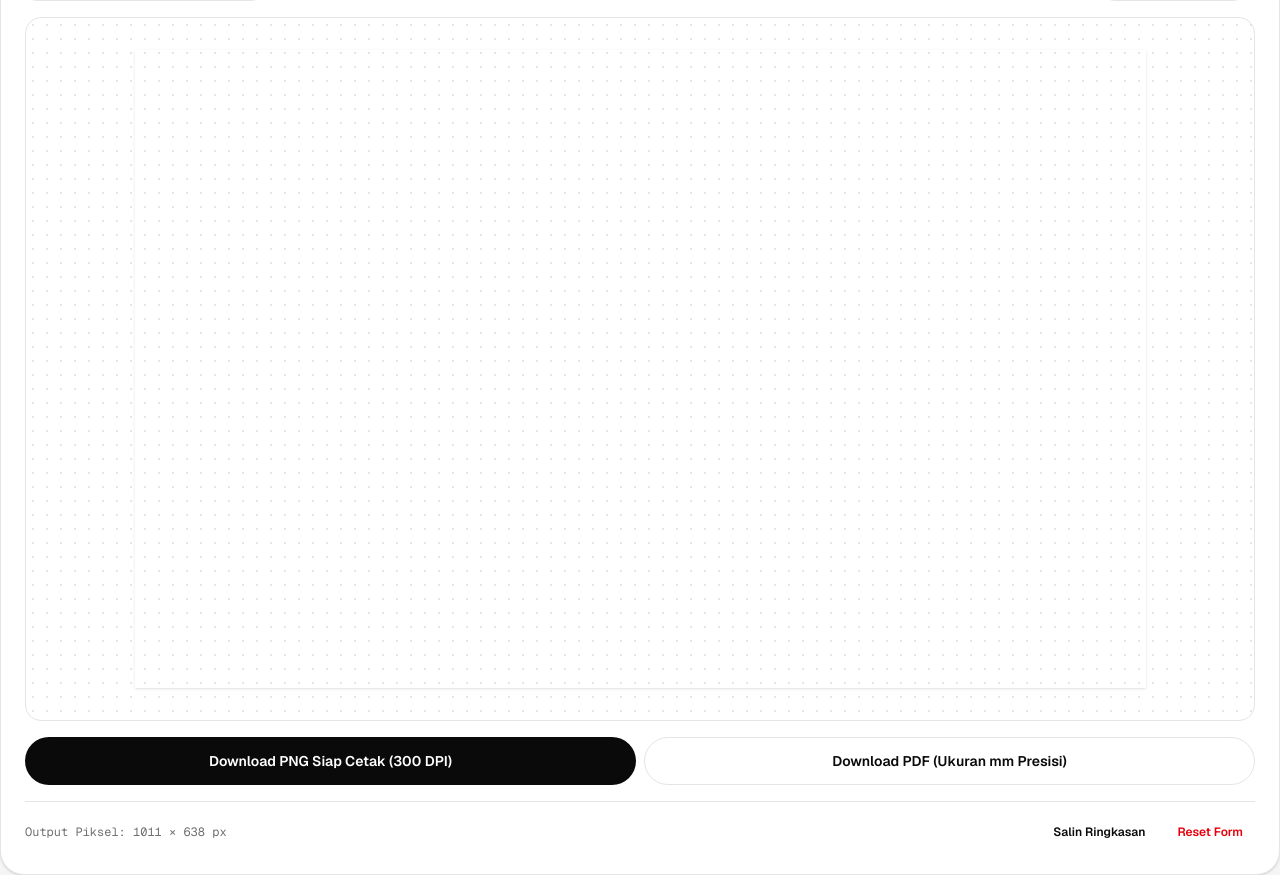
LivePreview › Salin Ringkasan memakai clipboard dan memberi umpan balik
The image size is (1280, 875).
(page scrolled)
Click the button "Salin Ringkasan" at (1099, 832), box [1041,814,1158,850]
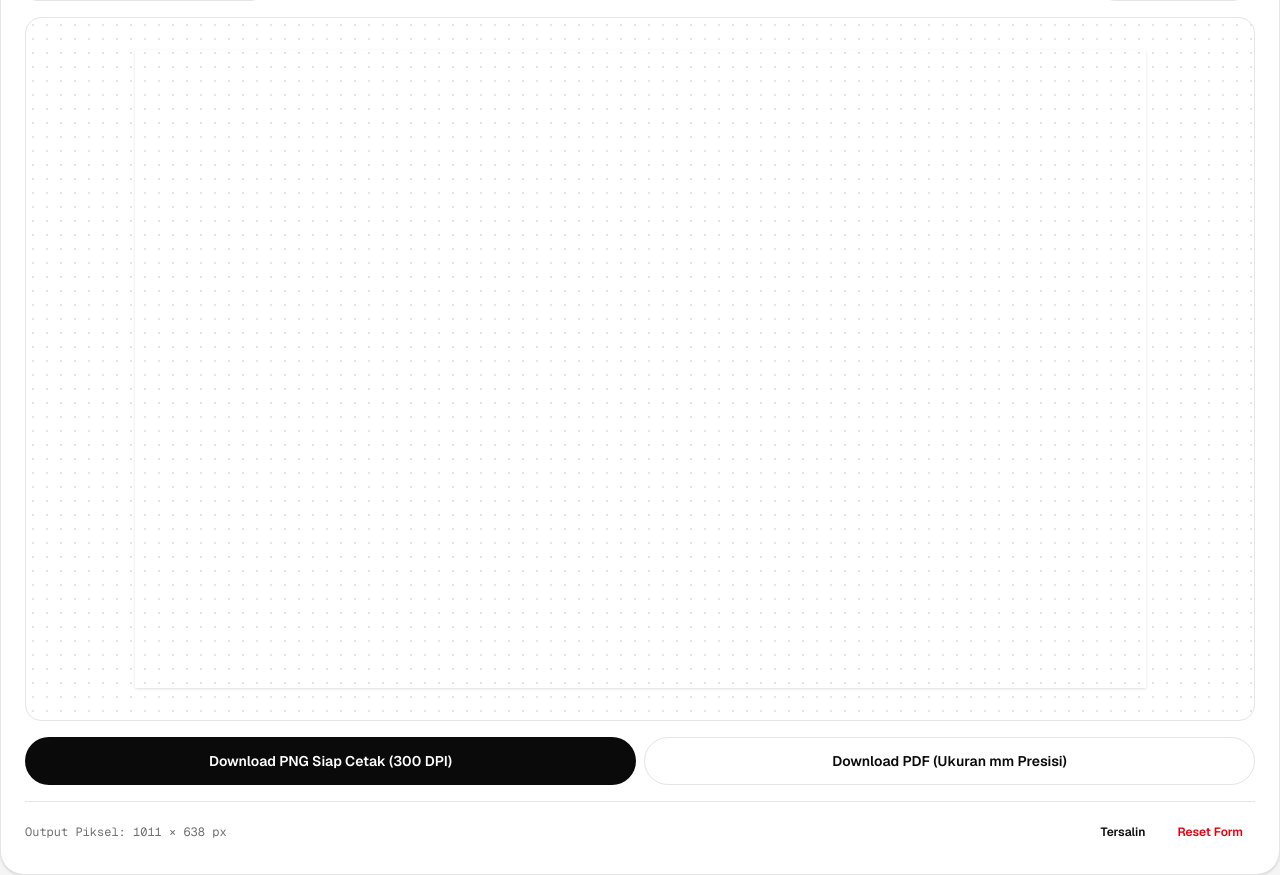
Check: the button "Tersalin" is shown, box [1089,814,1158,850]
